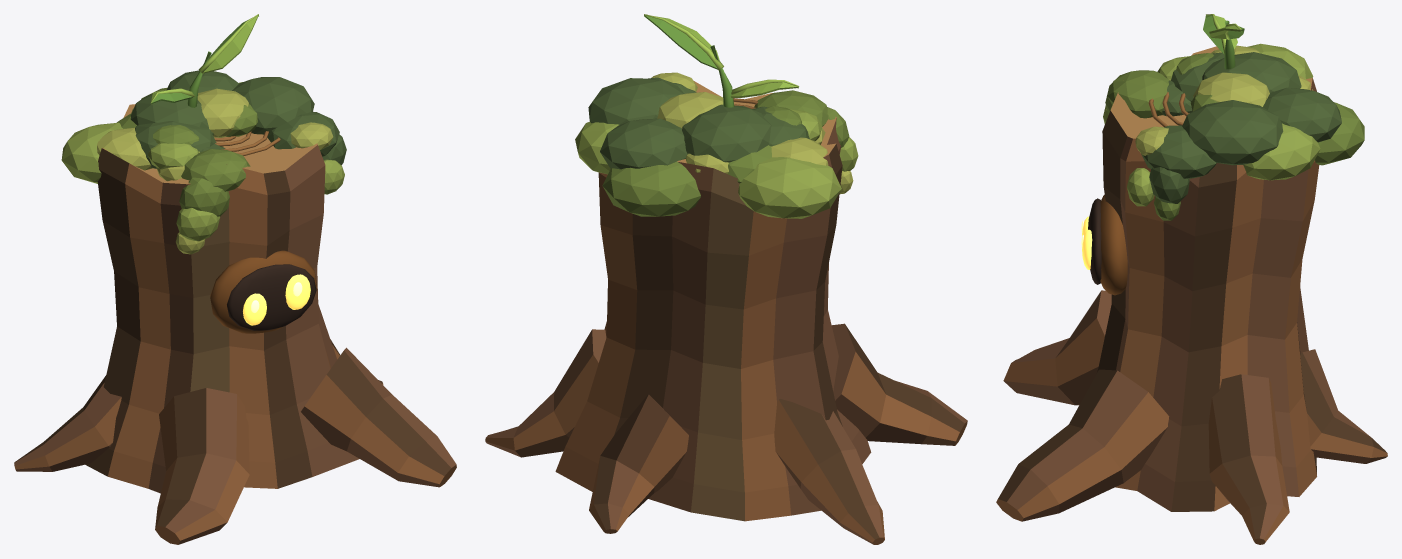
File: moss-stump.glb
3 views of the same model, side by side, from view 1: azimuth 30°, elevation 25°; view 2: azimuth 150°, elevation 25°; view 3: azimuth 270°, elevation 25° (orthographic). The views are drawn at different scales.
Parts seen in each view (by area): view 1: Fluted tapered trunk, Left walking root, Right walking root, Left buttress, Shared eye hollow, Moss crown cluster 1, Knotted eye socket lip, Moss crown cluster 18, Moss crown cluster 11, Moss crown cluster 4, Moss crown cluster 9, Trailing moss 1 (+13 smaller); view 2: Fluted tapered trunk, Left buttress, Left walking root, Rear buttress, Right buttress, Moss crown cluster 11, Moss crown cluster 6, Moss crown cluster 9, Moss crown cluster 5, Moss crown cluster 1, Moss crown cluster 4, Moss crown cluster 3 (+5 smaller); view 3: Fluted tapered trunk, Right walking root, Right buttress, Left walking root, Moss crown cluster 1, Rear buttress, Moss crown cluster 5, Moss crown cluster 3, Moss crown cluster 25, Knotted eye socket lip, Moss crown cluster 9, Moss crown cluster 18 (+9 smaller).
Part boxes in pixels (x1,y1,x2,y2): Fluted tapered trunk: [85, 104, 359, 493]; Left walking root: [155, 388, 249, 544]; Right walking root: [301, 347, 456, 487]; Left buttress: [14, 375, 121, 471]; Shared eye hollow: [227, 264, 316, 330]; Moss crown cluster 1: [232, 77, 314, 134]; Knotted eye socket lip: [210, 250, 316, 333]; Moss crown cluster 18: [181, 149, 250, 191]; Moss crown cluster 11: [61, 122, 122, 183]; Moss crown cluster 4: [197, 88, 248, 137]; Moss crown cluster 9: [130, 94, 213, 135]; Trailing moss 1: [179, 177, 229, 216]; Fluted tapered trunk: [555, 81, 871, 521]; Left buttress: [774, 399, 884, 544]; Left walking root: [831, 323, 967, 445]; Rear buttress: [589, 394, 688, 533]; Right buttress: [485, 329, 606, 457]; Moss crown cluster 11: [738, 157, 841, 218]; Moss crown cluster 6: [602, 161, 700, 216]; Moss crown cluster 9: [682, 104, 771, 162]; Moss crown cluster 5: [600, 118, 687, 169]; Moss crown cluster 1: [588, 78, 684, 124]; Moss crown cluster 4: [657, 92, 723, 128]; Moss crown cluster 3: [575, 121, 618, 174]; Fluted tapered trunk: [1097, 46, 1319, 511]; Right walking root: [996, 369, 1169, 521]; Right buttress: [1208, 374, 1289, 544]; Left walking root: [1003, 290, 1111, 405]; Moss crown cluster 1: [1182, 100, 1283, 165]; Rear buttress: [1300, 349, 1387, 463]; Moss crown cluster 5: [1263, 87, 1341, 142]; Moss crown cluster 3: [1243, 123, 1320, 180]; Moss crown cluster 25: [1141, 125, 1216, 178]; Knotted eye socket lip: [1100, 195, 1127, 295]; Moss crown cluster 9: [1202, 52, 1301, 92]; Moss crown cluster 18: [1107, 70, 1169, 118].
Size of the model in its own units: 1.5 by 1.63 by 1.29.
